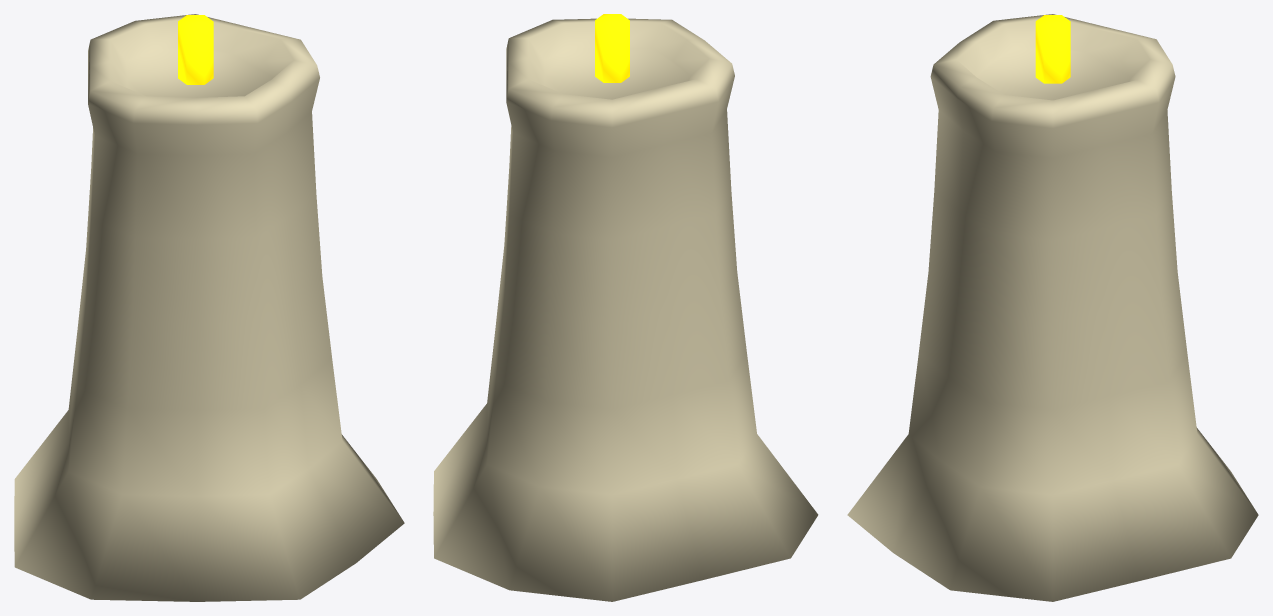
File: Candle.glb
The picture shows the model from 3 angles, left to right: view 1: azimuth 30°, elevation 25°; view 2: azimuth 150°, elevation 25°; view 3: azimuth 270°, elevation 25°; orthographic projection.
Parts seen in each view (by area): view 1: Candle; view 2: Candle; view 3: Candle.
Part boxes in pixels (<box>): Candle: <box>14,14,404,601</box>; Candle: <box>433,14,818,601</box>; Candle: <box>847,14,1258,601</box>.
Bounding box in the file's own units: 0.1534 × 0.203 × 0.1534.
